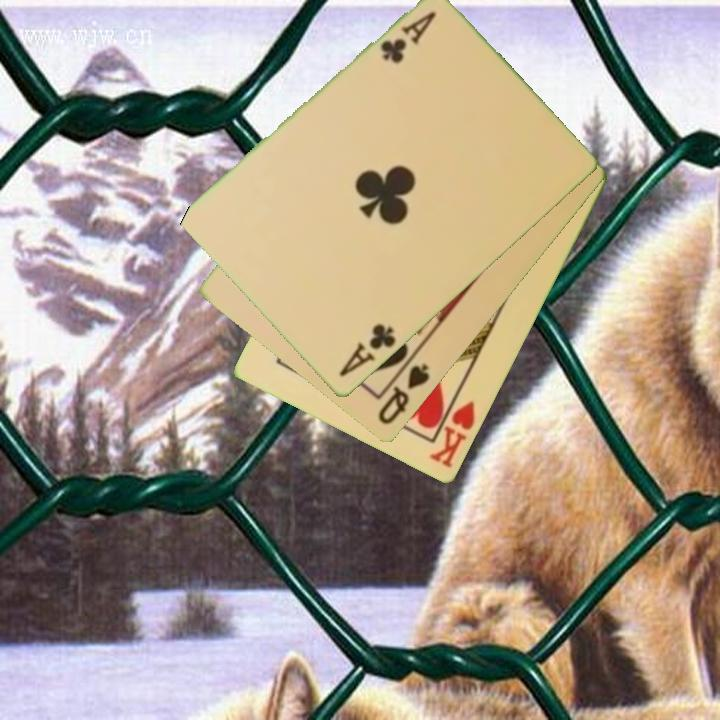Ac: (335, 320, 399, 381), (376, 8, 440, 67)
Kh: (425, 387, 479, 472)
Qs: (374, 360, 433, 429)
